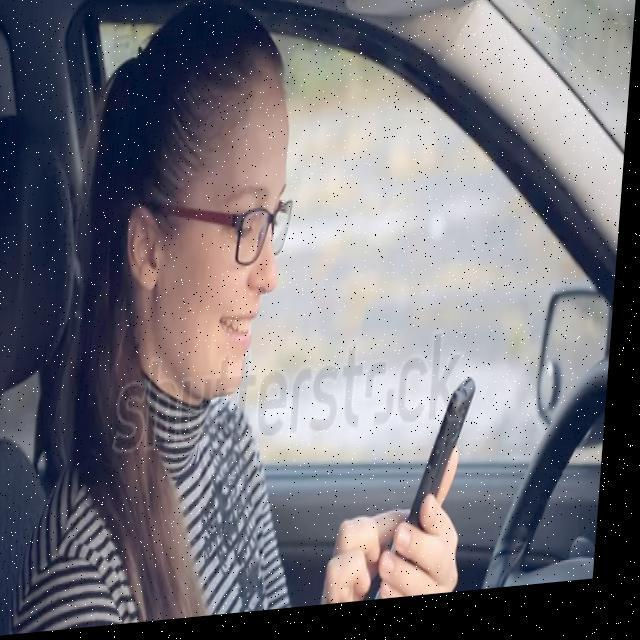PhoneCall: (371, 380, 484, 610)
